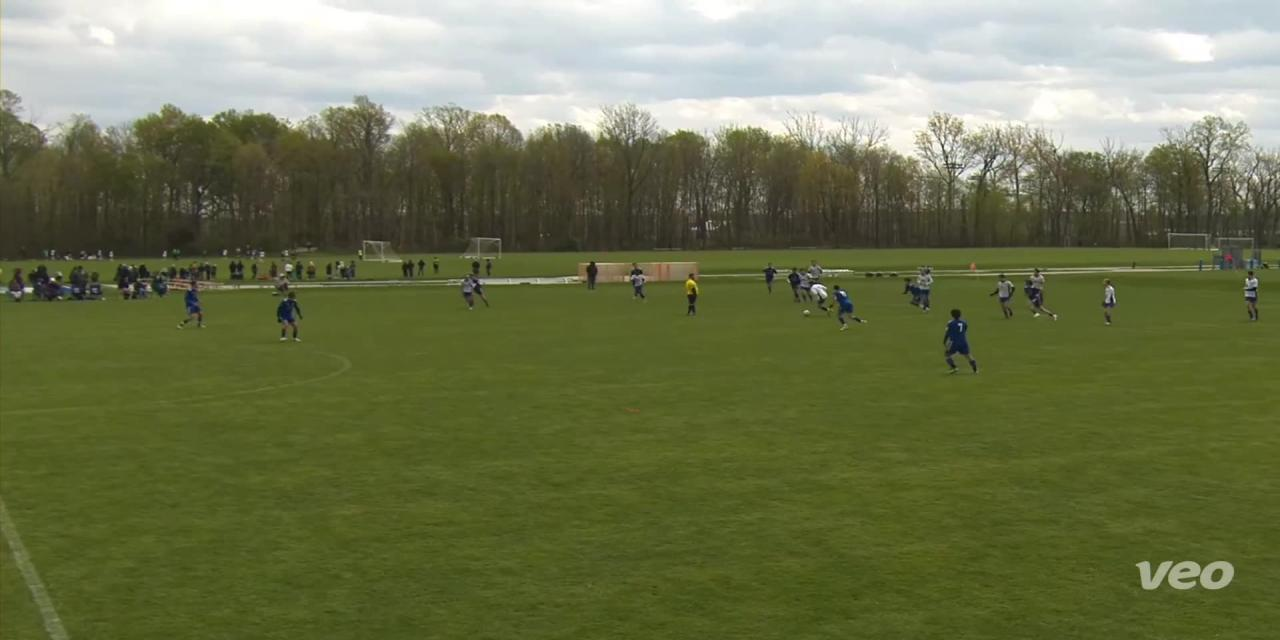sports ball: (790, 300, 827, 326)
